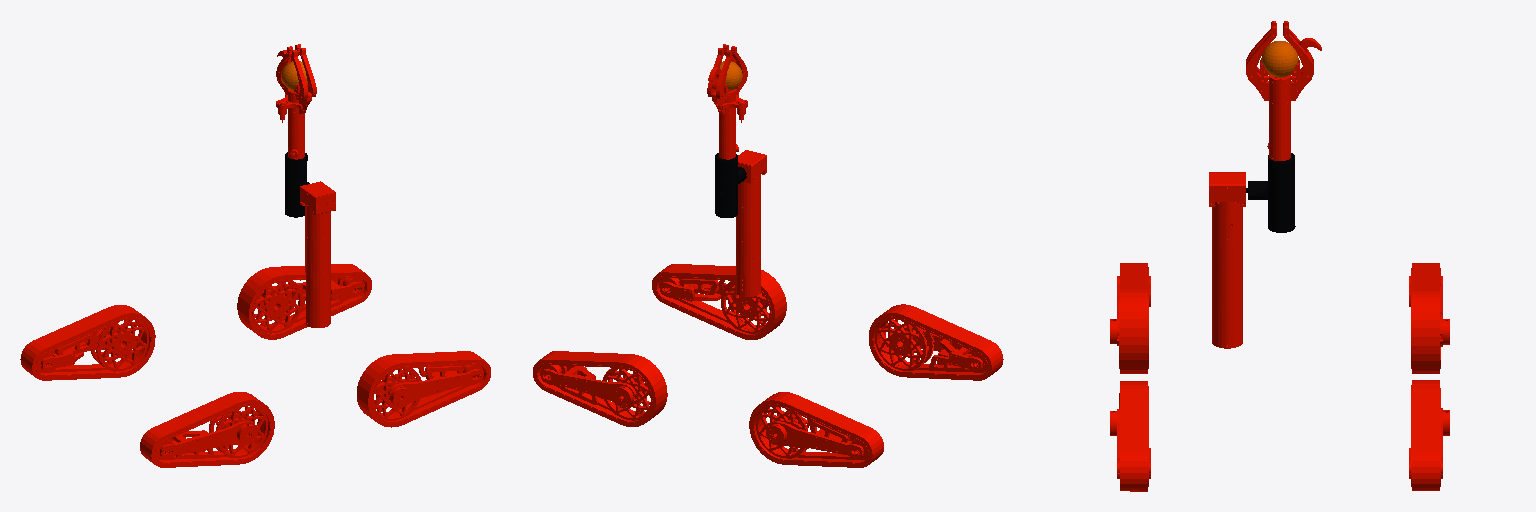
--- Facts derived from the render (not from the file) ---
Views: 3 orthographic renders of the robot side by side, from view 1: azimuth 30°, elevation 25°; view 2: azimuth 150°, elevation 25°; view 3: azimuth 270°, elevation 25°.
Robot: jaguar — 23 links, 22 joints (6 revolute, 16 fixed); root link base_link; default pose: every joint at zero.
Visible links, largest first — view 1: right_front_arm, right_rear_arm, left_rear_arm, left_front_arm, arm_1, arm_3, arm_2; view 2: right_rear_arm, left_rear_arm, left_front_arm, right_front_arm, arm_1, arm_3, arm_2; view 3: arm_1, arm_3, left_rear_arm, left_front_arm, right_rear_arm, right_front_arm, arm_2, ball.
Link boxes in pixels (x1=…): right_front_arm: x1=357, y1=351, x2=490, y2=427; right_rear_arm: x1=140, y1=392, x2=274, y2=467; left_rear_arm: x1=20, y1=305, x2=155, y2=380; left_front_arm: x1=237, y1=264, x2=371, y2=339; arm_1: x1=300, y1=181, x2=335, y2=327; arm_3: x1=276, y1=44, x2=316, y2=159; arm_2: x1=285, y1=152, x2=309, y2=217; right_rear_arm: x1=869, y1=304, x2=1003, y2=380; left_rear_arm: x1=749, y1=392, x2=883, y2=467; left_front_arm: x1=533, y1=351, x2=667, y2=426; right_front_arm: x1=652, y1=264, x2=786, y2=339; arm_1: x1=736, y1=150, x2=766, y2=296; arm_3: x1=707, y1=44, x2=747, y2=159; arm_2: x1=715, y1=153, x2=746, y2=217; arm_1: x1=1209, y1=172, x2=1245, y2=348; arm_3: x1=1246, y1=21, x2=1321, y2=160; left_rear_arm: x1=1409, y1=263, x2=1449, y2=373; left_front_arm: x1=1409, y1=380, x2=1449, y2=490; right_rear_arm: x1=1110, y1=263, x2=1150, y2=373; right_front_arm: x1=1110, y1=381, x2=1150, y2=491; arm_2: x1=1246, y1=153, x2=1295, y2=232; ball: x1=1261, y1=41, x2=1298, y2=77.
Bounding box of the posed robot: 1.03 × 0.7298 × 0.9843 m (x, y, z).
7 mesh visuals loaded from 6 distinct referenced files (4 Collada DAE); not drawn: 2 (reference not matched to a file when rendering).

URDF robot description (jaguar):
<?xml version="1.0" ?>
<robot name="jaguar">
  <joint name="left_track_j" type="fixed">
    <parent link="base_link"/>
    <child link="left_track"/>
    <origin rpy="0      0     0" xyz="0    0.245  0.1"/>
    <axis xyz="0  0  0"/>
    <limit effort="0" lower="0" upper="0" velocity="0"/>
  </joint>

  <link name="centroid"/>
  <joint name="centroid_j" type="fixed">
    <parent link="base_link"/>
    <child link="centroid"/>
    <origin rpy="0      0     0" xyz="0    0.0  0.09"/>
    <axis xyz="0  0  0"/>
    <limit effort="0" lower="0" upper="0" velocity="0"/>
  </joint>

  <joint name="right_track_j" type="fixed">
    <parent link="base_link"/>
    <child link="right_track"/>
    <origin rpy="0      0     0" xyz="0  -0.245     0.1"/>
    <axis xyz="0  0  0"/>
    <limit effort="0" lower="0" upper="0" velocity="0"/>
  </joint>
  <joint name="right_rear_track_j" type="revolute">
    <parent link="base_link"/>
    <child link="right_rear_arm"/>
    <origin rpy="0  0  1.5708" xyz="-0.23  -0.315    0.1"/>
    <axis xyz="1  0  0"/>
    <limit effort="-1" lower="-1e+16" upper="+1e+16" velocity="1"/>
    <dynamics damping=".5"/>
  </joint>
  <joint name="left_rear_track_j" type="revolute">
    <parent link="base_link"/>
    <child link="left_rear_arm"/>
    <origin rpy="0  0  1.5708" xyz="-0.23   0.315  0.1"/>
    <axis xyz="1  0  0"/>
    <limit effort="-1" lower="-1e+16" upper="+1e+16" velocity="1"/>
    <dynamics damping=".5"/>
  </joint>
  <joint name="right_front_track_j" type="revolute">
    <parent link="base_link"/>
    <child link="right_front_arm"/>
    <origin rpy="0  0  1.5708" xyz="0.23  -0.315   0.1"/>
    <axis xyz="1  0  0"/>
    <limit effort="-1" lower="-1e+16" upper="+1e+16" velocity="1"/>
    <dynamics damping=".5"/>
  </joint>
  <joint name="left_front_track_j" type="revolute">
    <parent link="base_link"/>
    <child link="left_front_arm"/>
    <origin rpy="0  0  1.5708" xyz="0.23  0.315  0.1"/>
    <axis xyz="1  0  0"/>
    <limit effort="-1" lower="-1e+16" upper="+1e+16" velocity="1"/>
    <dynamics damping=".5"/>
  </joint>
 <!--  <joint name="velodyne_j" type="fixed">
    <parent link="base"/>
    <child link="top"/>
    <origin rpy="0  0  0" xyz="0 0 0.029335"/>
    <axis xyz="0  0  0"/>
    <limit effort="-1" lower="-1e+16" upper="+1e+16" velocity="1"/>
    <dynamics damping=".5"/>
  </joint>
  <joint name='velodyne_base_j' type='fixed'>
    <parent link="base_link"/>
    <child link="base"/>
    <origin rpy="0      0     0" xyz="0  0  0.5"/>
    <axis xyz="0  0  0"/>
    <limit effort="0" lower="0" upper="0" velocity="0"/>
  </joint>-->
  <joint name="imu_joint" type="fixed">
    <axis xyz="1 0 0"/>
    <origin xyz="0 0 0.19"/>
    <parent link="base_link"/>
    <child link="imu_link"/>
  </joint>
  <link name="base_link">
    <inertial>
      <mass value="10.14"/>
      <origin rpy="1.5708  0      0" xyz="0  0  0.1"/>
      <inertia ixx="0.13068" ixy="0" ixz="0" iyy="0.4184" iyz="0" izz="0.3196"/>
      <!--<inertia ixx="0.17136" ixy="0" ixz="0" iyy="0.544105" iyz="0" izz="0.415662"/>-->
    </inertial>
    <collision name="base_link_collision">
      <origin rpy="0      0     0" xyz="0   0   0.1"/>
      <geometry>
        <box size="0.55 0.37 0.135"/>
      </geometry>
    </collision>

    <visual name="base_link_visual">
      <origin rpy="0      3.14     0" xyz="0   0.005   0.14"/>
      <geometry>
	<mesh filename="package://simulation/models/meshes/jaguar/base.dae" scale="0.021 0.021 0.021"/>
      </geometry>
    </visual>
  </link>
  <!-- Arm -->
  <gazebo>
    <plugin filename="libgazebo_ros_control.so" name="gazebo_ros_control">
      <legacyModeNS>True</legacyModeNS>
      <robotNamespace>/jaguar</robotNamespace>
    </plugin>
  </gazebo>

<!--<link name="box">
    <inertial>
      <origin rpy="0 0 0" xyz="0  0  0"/>
      <mass value="7.0"/>
      <inertia ixx="0.03886458333333334" ixy="0" ixz="0" iyy="0.019745833333333337" iyz="0" izz="0.03734791666666667"/>
    </inertial>
    <collision name="box_collision">
      <origin rpy="0 0 0" xyz="0  0  0"/>
      <geometry>
        <box size="0.125 0.22 0.135"/>
      </geometry>
    </collision>
    <visual name="box_visual">
      <origin rpy="0 0 0" xyz="0  0  0"/>
      <geometry>
        <box size="0.125 0.22 0.135"/>
      </geometry>
    </visual>
</link>
<joint name="box_hinge" type="fixed">
    <origin xyz="0.12 0.07 0.23" />
    <parent link="base_link"/>
    <child link="box"/>
    <axis xyz="0  0  0"/>
    <limit effort="0" lower="0" upper="0" velocity="0"/>
</joint>-->
<!---->
  <link name="arm_1">
    <inertial>
      <origin rpy="0 0 0" xyz="0  0  0.17"/>
      <mass value="1.0"/>
      <inertia ixx="0.009789583333333334" ixy="0" ixz="0" iyy="0.009789583333333334" iyz="0" izz="0.0003125"/>
    </inertial>
    <!--
    <collision name="arm_1_collision">
      <origin rpy="0 0 0" xyz="0  -0.025  0.17"/>
      <geometry>
        <cylinder length="0.34" radius="0.025"/>
      </geometry>
    </collision>
    -->
    <visual name="arm_1_visual">
      <origin rpy="0 -1.57 0" xyz="0  0  0.0"/>
      <geometry>
        <mesh filename="package://simulation/models/meshes/jaguar/arm1.dae" scale="0.021 0.021 0.021"/>
      </geometry>
    </visual>
  </link>

 <joint name="arm_1_hinge" type="revolute">
    <!-- case of the box <origin rpy="0 -1.0 0" xyz="0.01 -0.145 0.04"/>  -1.25-->
    <origin rpy="0 0 0" xyz="0.123 -0.08 0.27"/>
    <parent link="base_link"/>
    <child link="arm_1"/>
    <axis xyz="0  1  0"/>
    <limit effort="10000" lower="-1.3" upper="1.3" velocity="0.05"/>
    <dynamics damping=".5" friction=".5"/>
 </joint>

   <transmission name="arm_1">
    <type>transmission_interface/SimpleTransmission</type>
    <actuator name="arm_1_motor">
      <hardwareInterface>EffortJointInterface</hardwareInterface>
      <mechanicalReduction>1</mechanicalReduction>
    </actuator>
    <joint name="arm_1_hinge">
      <hardwareInterface>EffortJointInterface</hardwareInterface>
    </joint>
  </transmission>

<link name="arm_2">
    <inertial>
      <origin rpy="0 0 0" xyz="0  0  0.075"/>
      <mass value="0.5"/>
      <inertia ixx="0.001015625" ixy="0" ixz="0" iyy="0.001015625" iyz="0" izz="0.00015625"/>
    </inertial>
    <!--
    <collision name="arm_2_collision">
      <origin rpy="0 0 0" xyz="0  0.025  0"/>
      <geometry>
        <cylinder length="0.15" radius="0.025"/>
      </geometry>
    </collision>
    -->
    <visual name="arm_2_visual">
      <origin rpy="0 -1.57 0" xyz="0  -0.025  0.0"/>
      <geometry>
        <mesh filename="package://simulation/models/meshes/jaguar/arm2.dae" scale="0.021 0.021 0.021"/>
      </geometry>
    </visual>
  </link>

<joint name="arm_2_hinge" type="revolute">
    <origin xyz="0 0.055 0.33" rpy="0.0 0 0"/>
    <parent link="arm_1"/>
    <child link="arm_2"/>
    <axis xyz="0  1  0"/>
    <dynamics damping=" 0.2" friction="0"/>
    <!-- <limit effort="10000" velocity="0.001" lower="-2.82" upper="0" /> -->
    <limit effort="10000" velocity="0.05" lower="-15.6" upper="15.6" />
 </joint>

   <transmission name="arm_2">
    <type>transmission_interface/SimpleTransmission</type>
    <actuator name="arm_2_motor">
      <hardwareInterface>EffortJointInterface</hardwareInterface>
      <mechanicalReduction>1</mechanicalReduction>
    </actuator>
    <joint name="arm_2_hinge">
      <hardwareInterface>EffortJointInterface</hardwareInterface>
    </joint>
  </transmission><!---->

<link name="arm_3">
    <inertial>
      <origin rpy="0 0 0" xyz="0  0  0.075"/>
      <mass value="0.5"/>
      <inertia ixx="0.001015625" ixy="0" ixz="0" iyy="0.001015625" iyz="0" izz="0.00015625"/>
    </inertial>
    <!--
    <collision name="arm_3_collision">
      <origin rpy="0 0 0" xyz="0  0  0"/>
      <geometry>
        <cylinder length="0.15" radius="0.025"/>
      </geometry>
    </collision>
    -->
    <visual name="arm_3_visual">
      <origin rpy="0 -1.57 0" xyz="0  0  0.0"/>
      <geometry>
        <mesh filename="package://simulation/models/meshes/jaguar/arm3.dae" scale="0.021 0.021 0.021"/>
      </geometry>
    </visual>

  </link>

<joint name="arm_3_hinge" type="fixed">
    <origin xyz="0 0.025 0.075" rpy="0.0 3.14 0"/>
    <parent link="arm_2"/>
    <child link="arm_3"/>
    <axis xyz="0  1  0"/>
    <dynamics damping=" 0.2" friction="0"/>


 </joint> <!---->



 <link name="ball">
    <inertial>
      <mass value="2.0"/>
      <inertia ixx="0.0045" ixy="0" ixz="0" iyy="0.0045" iyz="0" izz="0.0045"/>
    </inertial>
    <visual name="arm_2_visual">
      <geometry>
        <sphere radius="0.04"/>
      </geometry>
    </visual>
  </link>

<joint name="ball_hinge" type="fixed">
    <origin xyz="0 0.0 -0.235" rpy="0.0 0 0"/>
    <parent link="arm_3"/>
    <child link="ball"/>
    <axis xyz="0  0  0"/>
 </joint>

<!--   Arm - end -->
  <link name="left_track">
    <inertial>
      <mass value="3.03"/>
      <origin rpy="0  0  0" xyz="0  0  0"/>
      <inertia ixx="0.000909" ixy="0" ixz="0" iyy="0.016277" iyz="0" izz="0.0156955"/>
    </inertial>
    <collision name="left_track_collision">
      <origin rpy="1.5708  0      1.5708" xyz="0  0  0"/>
      <geometry>
        <box size="0.06 0.180 0.46"/>
      </geometry>
    </collision>
    <collision name="left_track_collision_1">
      <origin rpy="1.5708  0      0" xyz="0.23  0    0"/>
      <geometry>
        <cylinder length="0.06" radius="0.09"/>
      </geometry>
    </collision>
    <collision name="left_track_collision_2">
      <origin rpy="1.5708  0      0" xyz="-0.23  0    0"/>
      <geometry>
        <cylinder length="0.06" radius="0.09"/>
      </geometry>
    </collision>

  </link>
  <link name="right_track">
    <inertial>
      <mass value="3.03"/>
      <origin rpy="0  0  0" xyz="0  0  0"/>
      <inertia ixx="0.000909" ixy="0" ixz="0" iyy="0.016277" iyz="0" izz="0.0156955"/>
    </inertial>
    <collision name="right_track_collision">
      <origin rpy="1.5708  0      1.5708" xyz="0  0  0"/>
      <geometry>
        <box size="0.06 0.180 0.46"/>
      </geometry>
    </collision>
    <collision name="right_track_collision_1">
      <origin rpy="1.5708  0      0" xyz="0.23  0    0"/>
      <geometry>
        <cylinder length="0.06" radius="0.09"/>
      </geometry>
    </collision>
    <collision name="right_track_collision_2">
      <origin rpy="1.5708  0      0" xyz="-0.23  0    0"/>
      <geometry>
        <cylinder length="0.06" radius="0.09"/>
      </geometry>
    </collision>
  </link>

  <link name="right_rear_arm">
    <inertial>
      <mass value="0.5"/>
      <origin rpy="1.57079  0    1.57079" xyz="0  0     0"/>
      <inertia ixx="0.000340625" ixy="0" ixz="0" iyy="0.001981265" iyz="0" izz="0.002265625"/>
    </inertial>
    <collision name="collision_right_rear_arm_wheel_1">
      <origin rpy="3.14159 -1.57079  3.14159" xyz="0     0     0.001"/>
      <geometry>
        <cylinder length=".06" radius=".09"/>
      </geometry>
    </collision>
    <collision name="collision_right_rear_arm_wheel_2">
      <origin rpy="3.14159 -1.57079  3.14159" xyz="0     0.23   0.001"/>
      <geometry>
        <cylinder length=".06" radius=".035"/>
      </geometry>
    </collision>
    <collision name="right_rear_track_collision">
      <origin rpy="-1.3293  0      0" xyz="0       0.12157 -0.0257"/>
      <geometry>
        <box size="0.06 0.07 0.2233"/>
      </geometry>
    </collision>
    <collision name="right_rear_track_collision_2">
      <origin rpy="1.3293  0      0" xyz="0       0.12157  0.0277"/>
      <geometry>
        <box size="0.06 0.07 0.23"/>
      </geometry>
    </collision>
    <visual name="right_rear_arm_visual">
      <origin rpy="0  0   1.57" xyz="0  0.04    0"/>
      <geometry>
<mesh filename="package://simulation/models/meshes/jaguar/flipper.dae" scale="0.021 0.021 0.021"/>
      </geometry>
    </visual>
    <!-- <visual name="visual">
      <origin rpy="0  0  0" xyz="0     0.115  0.001"/>
      <geometry>
        <box size=".002 .23 .05"/>
      </geometry>
    </visual>
    <visual name="visual_right_rear_arm_wheel_1">
      <origin rpy="3.14159 -1.57079  3.14159" xyz="0     0     0.001"/>
      <geometry>
        <cylinder length=".06" radius=".09"/>
      </geometry>
    </visual>
    <visual name="visual_right_rear_arm_wheel_2">
      <origin rpy="3.14159 -1.57079  3.14159" xyz="0     0.23   0.001"/>
      <geometry>
        <cylinder length=".06" radius=".035"/>
      </geometry>
    </visual>
    <visual name="right_rear_track_visual">
      <origin rpy="1.3293  0      0" xyz="0       0.12157  0.0277"/>
      <geometry>
        <box size="0.06 0.07 0.2233"/>
      </geometry>
    </visual>
    <visual name="right_rear_track_visual_2">
      <origin rpy="-1.3293  0      0" xyz="0       0.12157 -0.0257"/>
      <geometry>
        <box size="0.06 0.07 0.23"/>
      </geometry>
    </visual> -->
  </link>

  <link name="left_rear_arm">
    <inertial>
      <mass value="0.5"/>
      <origin rpy="1.57079  0    1.57079" xyz="0  0     0"/>
      <inertia ixx="0.000340625" ixy="0" ixz="0" iyy="0.001981265" iyz="0" izz="0.002265625"/>
    </inertial>
    <collision name="collision_left_rear_arm_wheel_1">
      <origin rpy="3.14159 -1.57079  3.14159" xyz="0     0     0.001"/>
      <geometry>
        <cylinder length=".06" radius=".09"/>
      </geometry>
    </collision>
    <collision name="collision_left_rear_arm_wheel_2">
      <origin rpy="3.14159 -1.57079  3.14159" xyz="0     0.23   0.001"/>
      <geometry>
        <cylinder length=".06" radius=".035"/>
      </geometry>
    </collision>
    <collision name="left_rear_track_collision">
      <origin rpy="-1.3293  0      0" xyz="0       0.12157 -0.0257"/>
      <geometry>
        <box size="0.06 0.07 0.2233"/>
      </geometry>
    </collision>
    <collision name="left_rear_track_collision_2">
      <origin rpy="1.3293  0      0" xyz="0       0.12157  0.0277"/>
      <geometry>
        <box size="0.06 0.07 0.23"/>
      </geometry>
    </collision>
    <!--<visual name="visual">
      <origin rpy="0  0  0" xyz="0     0.115  0.001"/>
      <geometry>
        <box size=".002 .23 .05"/>
      </geometry>
    </visual>
    <visual name="visual_left_rear_arm_wheel_1">
      <origin rpy="3.14159 -1.57079  3.14159" xyz="0     0     0.001"/>
      <geometry>
        <cylinder length=".06" radius=".09"/>
      </geometry>
    </visual>
    <visual name="visual_left_rear_arm_wheel_2">
      <origin rpy="3.14159 -1.57079  3.14159" xyz="0     0.23   0.001"/>
      <geometry>
        <cylinder length=".06" radius=".035"/>
      </geometry>
    </visual>
    <visual name="left_rear_track_visual">
      <origin rpy="1.3293  0      0" xyz="0       0.12157  0.0277"/>
      <geometry>
        <box size="0.06 0.07 0.2233"/>
      </geometry>
    </visual>
    <visual name="left_rear_track_visual_2">
      <origin rpy="-1.3293  0      0" xyz="0       0.12157 -0.0257"/>
      <geometry>
        <box size="0.06 0.07 0.23"/>
      </geometry>
    </visual>-->
    <visual name="left_rear_arm_visual">
      <origin rpy="3.14  0   1.57" xyz="0  0.04    0"/>
      <geometry>
<mesh filename="package://simulation/models/meshes/jaguar/flipper.dae" scale="0.021 0.021 0.021"/>
      </geometry>
    </visual>
  </link>
  <link name="right_front_arm">
    <inertial>
      <mass value="0.5"/>
      <origin rpy="1.57  0    1.57" xyz="0  0     0"/>
      <inertia ixx="0.000340625" ixy="0" ixz="0" iyy="0.001981265" iyz="0" izz="0.002265625"/>
    </inertial>
    <collision name="collision_right_front_arm_wheel_1">
      <origin rpy="3.14159 -1.57079  3.14159" xyz="0     0     0.001"/>
      <geometry>
        <cylinder length=".06" radius=".09"/>
      </geometry>
    </collision>
    <collision name="collision_right_front_arm_wheel_2">
      <origin rpy="3.14159 -1.57079  3.14159" xyz="0    -0.23   0.001"/>
      <geometry>
        <cylinder length=".06" radius=".035"/>
      </geometry>
    </collision>
    <collision name="right_front_track_collision">
      <origin rpy="-1.3293  0      0" xyz="0      -0.12157  0.0277"/>
      <geometry>
        <box size="0.06 0.07 0.2233"/>
      </geometry>
    </collision>
    <collision name="right_front_track_collision_2">
      <origin rpy="1.3293  0      0" xyz="0      -0.12157 -0.0257"/>
      <geometry>
        <box size="0.06 0.07 0.23"/>
      </geometry>
    </collision>
    <!-- <visual name="visual">
      <origin rpy="0  0  0" xyz="0    -0.115  0.001"/>
      <geometry>
        <box size=".002 .23 .05"/>
      </geometry>
    </visual>
    <visual name="visual_right_front_arm_wheel_1">
      <origin rpy="3.14159 -1.57079  3.14159" xyz="0     0     0.001"/>
      <geometry>
        <cylinder length=".06" radius=".09"/>
      </geometry>
    </visual>
    <visual name="visual_right_front_arm_wheel_2">
      <origin rpy="3.14159 -1.57079  3.14159" xyz="0    -0.23   0.001"/>
      <geometry>
        <cylinder length=".06" radius=".035"/>
      </geometry>
    </visual>
    <visual name="right_front_track_visual">
      <origin rpy="-1.3293  0      0" xyz="0      -0.12157  0.0277"/>
      <geometry>
        <box size="0.06 0.07 0.2233"/>
      </geometry>
    </visual>
    <visual name="right_front_track_visual_2">
      <origin rpy="1.3293  0      0" xyz="0      -0.12157 -0.0257"/>
      <geometry>
        <box size="0.06 0.07 0.23"/>
      </geometry>
    </visual> -->
    <visual name="right_front_arm_visual">
      <origin rpy="3.14  0   -1.57" xyz="0  -0.04    0"/>
      <geometry>
<mesh filename="package://simulation/models/meshes/jaguar/flipper.dae" scale="0.021 0.021 0.021"/>
      </geometry>
    </visual>
  </link>
  <link name="left_front_arm">
    <inertial>
      <mass value="0.5"/>
      <origin rpy="1.57  0    1.57" xyz="0  0     0"/>
      <inertia ixx="0.000340625" ixy="0" ixz="0" iyy="0.001981265" iyz="0" izz="0.002265625"/>
    </inertial>
    <collision name="collision_left_front_arm_wheel_1">
      <origin rpy="3.14159 -1.57079  3.14159" xyz="0     0     0.001"/>
      <geometry>
        <cylinder length=".06" radius=".09"/>
      </geometry>
    </collision>
    <collision name="collision_left_front_arm_wheel_2">
      <origin rpy="3.14159 -1.57079  3.14159" xyz="0    -0.23   0.001"/>
      <geometry>
        <cylinder length=".06" radius=".035"/>
      </geometry>
    </collision>
    <collision name="left_front_track_collision">
      <origin rpy="-1.3293  0      0" xyz="0      -0.12157  0.0277"/>
      <geometry>
        <box size="0.06 0.07 0.2233"/>
      </geometry>
    </collision>
    <collision name="left_front_track_collision_2">
      <origin rpy="1.3293  0      0" xyz="0      -0.12157 -0.0257"/>
      <geometry>
        <box size="0.06 0.07 0.23"/>
      </geometry>
    </collision>
    <!--<visual name="visual">
      <origin rpy="0  0  0" xyz="0    -0.115  0.001"/>
      <geometry>
        <box size=".002 .23 .05"/>
      </geometry>
    </visual>
    <visual name="visual_left_front_arm_wheel_1">
      <origin rpy="3.14159 -1.57079  3.14159" xyz="0     0     0.001"/>
      <geometry>
        <cylinder length=".06" radius=".09"/>
      </geometry>
    </visual>
    <visual name="visual_left_front_arm_wheel_2">
      <origin rpy="3.14159 -1.57079  3.14159" xyz="0    -0.23   0.001"/>
      <geometry>
        <cylinder length=".06" radius=".035"/>
      </geometry>
    </visual>
    <visual name="left_front_track_visual">
      <origin rpy="-1.3293  0      0" xyz="0      -0.12157  0.0277"/>
      <geometry>
        <box size="0.06 0.07 0.2233"/>
      </geometry>
    </visual>
    <visual name="left_front_track_visual_2">
      <origin rpy="1.3293  0      0" xyz="0      -0.12157 -0.0257"/>
      <geometry>
        <box size="0.06 0.07 0.23"/>
      </geometry>
    </visual> -->

    <visual name="left_front_arm_visual">
      <origin rpy="0  0   -1.57" xyz="0  -0.04    0"/>
      <geometry>
<mesh filename="package://simulation/models/meshes/jaguar/flipper.dae" scale="0.021 0.021 0.021"/>
      </geometry>
    </visual>

  </link>
<!--  <link name="base">
    <inertial>
      <mass value="1.2"/>
      <origin xyz="0 0 0" rpy="0 0 0"/>
      <inertia ixx="0.001087473" iyy="0.001087473" izz="0.001092437" ixy="0" ixz="0" iyz="0" />
    </inertial>
  </link>
  <link name="top">
    <inertial>
      <mass value="0.1"/>
      <origin xyz="0 0 0.036785" rpy="0 0 0"/>
      <inertia ixx="0.000090623" iyy="0.000090623" izz="0.000091036" ixy="0" ixz="0" iyz="0" />
    </inertial>
  </link>-->
  <link name="imu_link">
    <inertial>
      <mass value="0.001"/>
      <origin rpy="0 0 0" xyz="0 0 0"/>
      <inertia ixx="0.0001" ixy="0" ixz="0" iyy="0.000001" iyz="0" izz="0.0001"/>
    </inertial>
    <visual>
      <origin rpy="0 0 0" xyz="0 0 0"/>
      <geometry>
        <box size="0.001 0.001 0.001"/>
      </geometry>
    </visual>
    <collision>
      <origin rpy="0 0 0" xyz="0 0 0"/>
      <geometry>
        <box size=".001 .001 .001"/>
      </geometry>
    </collision>
  </link>

    <gazebo>
        <plugin name="gazebo_ros_imu_controller" filename="libgazebo_ros_imu.so">
          <robotNamespace></robotNamespace>
          <topicName>imu</topicName>
          <serviceName>imu/service</serviceName>
          <bodyName>base_link</bodyName>
          <gaussianNoise>0</gaussianNoise>
          <rpyOffsets>0 0 0</rpyOffsets>
          <updateRate>20.0</updateRate>
          <alwaysOn>true</alwaysOn>
          <gaussianNoise>0</gaussianNoise>
        </plugin>
    </gazebo>

  <!-- <gazebo reference="imu_link">
    <gravity>true</gravity>
    <sensor name="imu_sensor" type="imu">
      <always_on>true</always_on>
      <update_rate>10</update_rate>
      <visualize>true</visualize>
      <topic>__default_topic__</topic>
      <plugin filename="libgazebo_ros_imu_sensor.so" name="imu_plugin">
        <topicName>imu</topicName>
        <bodyName>imu_link</bodyName>
        <updateRateHZ>10.0</updateRateHZ>
        <gaussianNoise>0.0</gaussianNoise>
        <xyzOffset>0 0 0</xyzOffset>
        <rpyOffset>0 0 0</rpyOffset>
        <frameName>imu_link</frameName>
      </plugin>
      <pose>0 0 0 0 0 0</pose>
    </sensor>
  </gazebo>-->

  <gazebo reference="left_track_j">
    <disableFixedJointLumping>true</disableFixedJointLumping>
  </gazebo>

  <gazebo reference="right_track_j">
    <disableFixedJointLumping>true</disableFixedJointLumping>
  </gazebo>

  <!-- <gazebo reference="velodyne_base_j">
    <disableFixedJointLumping>true</disableFixedJointLumping>
  </gazebo> -->

  <gazebo reference="imu_joint">
    <disableFixedJointLumping>true</disableFixedJointLumping>
  </gazebo>
  <gazebo>
            <!-- <plugin name="jaguar_plugin" filename="
            [local-path]/dev/catkin_ws/src/jaguar_ws/plugins/flipper_control/build/libjaguar_plugin.so"> -->
            <plugin name="jaguar_plugin" filename="/usr/lib/libjaguar_plugin.so">
            <velocity>0</velocity>
            <flipperTopicName>/cmd_flipper</flipperTopicName>
            <right_front_joint>right_front_track_j</right_front_joint>
            <left_front_joint>left_front_track_j</left_front_joint>
            <right_rear_joint>right_rear_track_j</right_rear_joint>
            <left_rear_joint>left_rear_track_j</left_rear_joint>
            <updateRate>0.0</updateRate>>
        </plugin>
  </gazebo>

  <gazebo>
          <plugin filename="libSimpleTrackedVehiclePlugin.so"
            name="simple_tracked_vehicle">
                <body>base_link</body>
                <cmdVelTopicName>/cmd_vel</cmdVelTopicName>
                <left_track>left_track</left_track>
                <right_track>right_track</right_track>
                <rear_left_track>left_rear_arm</rear_left_track>
                <rear_right_track>right_rear_arm</rear_right_track>
                <front_left_track>left_front_arm</front_left_track>
                <front_right_track>right_front_arm</front_right_track>
                <track_mu>1</track_mu>
                <track_mu2>0.5</track_mu2>
                <tracks_separation>0.6</tracks_separation>
                <steering_efficiency>0.5</steering_efficiency>
        </plugin>
  </gazebo>

<!-- KINECT -->
      <link name="camera_link">
        <inertial_sphere mass="0.01" diameter="0.07" />
        <visual>
          <origin xyz="0.12 -0.03 -0.21" rpy="0 0 0" />
          <geometry>
            <mesh filename="package://hector_sensors_description/meshes/kinect_camera/kinect_camera_simple.dae"/>
          </geometry>
        </visual>
        <collision>

          <geometry>
            <mesh filename="package://hector_sensors_description/meshes/kinect_camera/kinect_camera_simple.stl"/>
          </geometry>
        </collision>
      </link>

      <joint name="camera_joint" type="fixed">
        <origin xyz="0.195 0.1 0.295" rpy="0 0.00 0.0"/> <!-- 0.3 0 0.19 0.47-->
        <parent link="base_link"/>
        <child link="camera_link"/>
      </joint>

      <joint name="camera_depth_joint" type="fixed">
        <origin xyz="0.0 -0.02 0.0" rpy="0 0 0" />
        <parent link="camera_link" />
        <child link="camera_depth_frame"/>
      </joint>

      <link name="camera_depth_frame"/>

      <joint name="camera_depth_optical_joint" type="fixed">
        <origin xyz="0 0 0" rpy="-1.57 0.0 -1.57" />
        <parent link="camera_depth_frame" />
        <child link="camera_depth_optical_frame"/>
      </joint>

      <link name="camera_depth_optical_frame"/>

      <joint name="camera_rgb_joint" type="fixed">
        <origin xyz="0.0 -0.0125 0.0" rpy="0 0 0" />
        <parent link="camera_link" />
        <child link="camera_rgb_frame"/>
      </joint>

      <link name="camera_rgb_frame"/>

      <joint name="camera_rgb_optical_joint" type="fixed">
        <origin xyz="0 0 0" rpy="-1.57 0.0 -1.57" />
        <parent link="camera_rgb_frame" />
        <child link="camera_rgb_optical_frame"/>
      </joint>

      <link name="camera_rgb_optical_frame"/>

      <gazebo reference="camera_depth_frame">
        <sensor type="depth" name="camera">
          <update_rate>20</update_rate>
          <camera>
            <horizontal_fov>1.2</horizontal_fov> <!-- 66/180*3.14 -->
            <image>
              <format>R8G8B8</format>
              <width>640</width>
              <height>480</height>
            </image>
            <clip>
              <near>0.02</near>
              <far>8</far>
            </clip>
          </camera>
          <plugin name="camera_camera_controller" filename="libgazebo_ros_openni_kinect.so">

          <!--
          host:
          <plugin name="camera_camera_controller" filename="[local-path]/dev/catkin_ws/devel/lib/libgazebo_ros_openni_kinect.so">
          usual:
          <plugin name="camera_camera_controller" filename="libgazebo_ros_openni_kinect.so">
          or
          <plugin name="camera_camera_controller" filename="/opt/ros/noetic/lib/libgazebo_ros_openni_kinect.so">
          -->

            <alwaysOn>true</alwaysOn>
            <updateRate>20</updateRate>
            <imageTopicName>camera/rgb/image_raw</imageTopicName>
            <cameraInfoTopicName>camera/rgb/camera_info</cameraInfoTopicName>
            <depthImageTopicName>camera/depth/image_raw</depthImageTopicName>
            <depthImageCameraInfoTopicName>camera/depth/camera_info</depthImageCameraInfoTopicName>
            <frameName>camera_depth_optical_frame</frameName>
            <distortion_k1>0.0</distortion_k1>
            <distortion_k2>0.0</distortion_k2>
            <distortion_k3>0.0</distortion_k3>
            <distortion_t1>0.0</distortion_t1>
            <distortion_t2>0.0</distortion_t2>
          </plugin>
        </sensor>
      </gazebo>
   <!-- END Kinect -->

<!-- second camera -->
      <link name="camera_link_2">
        <inertial_sphere mass="0.01" diameter="0.07" />
        <material name="invisible_material">
            <color rgba="0 0 0 0"/> <!-- Opacidad completa (totalmente transparente) -->
        </material>
        <visual>
          <origin xyz="-0.03 -0.06 0.25" rpy="0 0 0" />
          <geometry>
            <box size="0 0 0"/>
          </geometry>
        </visual>
        <collision>
          <geometry>
            <box size="0 0 0"/>
          </geometry>
        </collision>
      </link>

      <joint name="camera_joint_2" type="fixed">
        <origin xyz="0.195 0.1 0.295" rpy="0 -1.60 0.0"/> <!-- 0.3 0 0.19 0.47-->
        <parent link="arm_2"/>
        <child link="camera_link_2"/>
      </joint>

      <joint name="camera_depth_joint_2" type="fixed">
        <origin xyz="0.0 -0.02 0.0" rpy="0 0 0" />
        <parent link="camera_link_2" />
        <child link="camera_depth_frame_2"/>
      </joint>

      <link name="camera_depth_frame_2"/>

      <joint name="camera_depth_optical_joint_2" type="fixed">
        <origin xyz="0 0 0" rpy="-1.57 0.0 -1.57" />
        <parent link="camera_depth_frame_2" />
        <child link="camera_depth_optical_frame_2"/>
      </joint>

      <link name="camera_depth_optical_frame_2"/>

      <joint name="camera_rgb_joint_2" type="fixed">
        <origin xyz="0.0 -0.0125 0.0" rpy="0 0 0" />
        <parent link="camera_link_2" />
        <child link="camera_rgb_frame_2"/>
      </joint>

      <link name="camera_rgb_frame_2"/>

      <joint name="camera_rgb_optical_joint_2" type="fixed">
        <origin xyz="0 0 0" rpy="-1.57 0.0 -1.57" />
        <parent link="camera_rgb_frame_2" />
        <child link="camera_rgb_optical_frame_2"/>
      </joint>

      <link name="camera_rgb_optical_frame_2"/>

      <gazebo reference="camera_depth_frame_2">
        <sensor type="depth" name="camera">
          <update_rate>20</update_rate>
          <camera>
            <horizontal_fov>1.2</horizontal_fov> <!-- 66/180*3.14 -->
            <image>
              <format>R8G8B8</format>
              <width>640</width>
              <height>480</height>
            </image>
            <clip>
              <near>0.02</near>
              <far>8</far>
            </clip>
          </camera>
          <plugin name="camera_camera_controller" filename="libgazebo_ros_camera.so">

          <!--
          host:
          <plugin name="camera_camera_controller" filename="[local-path]/dev/catkin_ws/devel/lib/libgazebo_ros_openni_kinect.so">
          usual:
          <plugin name="camera_camera_controller" filename="libgazebo_ros_openni_kinect.so">
          or
          <plugin name="camera_camera_controller" filename="/opt/ros/noetic/lib/libgazebo_ros_openni_kinect.so">
          -->

            <alwaysOn>true</alwaysOn>
            <updateRate>20</updateRate>
            <imageTopicName>camera/rgb/image_raw_2</imageTopicName>
            <cameraInfoTopicName>camera/rgb/camera_info_2</cameraInfoTopicName>
            <depthImageTopicName>camera/depth/image_raw_2</depthImageTopicName>
            <depthImageCameraInfoTopicName>camera/depth/camera_info_2</depthImageCameraInfoTopicName>
            <frameName>camera_depth_optical_frame_2</frameName>
            <distortion_k1>0.0</distortion_k1>
            <distortion_k2>0.0</distortion_k2>
            <distortion_k3>0.0</distortion_k3>
            <distortion_t1>0.0</distortion_t1>
            <distortion_t2>0.0</distortion_t2>
          </plugin>
        </sensor>
      </gazebo>
   <!-- END second camera -->

<!-- Marker
  <link name="marker_0">
    <inertial>
      <mass value="0.001"/>
      <inertia ixx="0.001" ixy="0" ixz="0" iyy="0.001" iyz="0" izz="0.001"/>
    </inertial>
    <collision name="marker_0">
      <geometry>
        <mesh filename="package://tracked_irl/meshes/markers/marker_0.dae" scale="0.22 0.22 0.22"/>
      </geometry>
    </collision>
    <visual name="marker_0">
      <geometry>
        <mesh filename="package://tracked_irl/meshes/markers/marker_0.dae" scale="0.22 0.22 0.22"/>
      </geometry>
    </visual>
  </link>-->

  <!--<joint name="marker_0" type="fixed">
     <origin rpy="-0.785 0.0 1.57" xyz="-0.28 0 0.28"/>
     <parent link="base_link"/>
     <child link="marker_0"/>
   </joint>-->
</robot>
